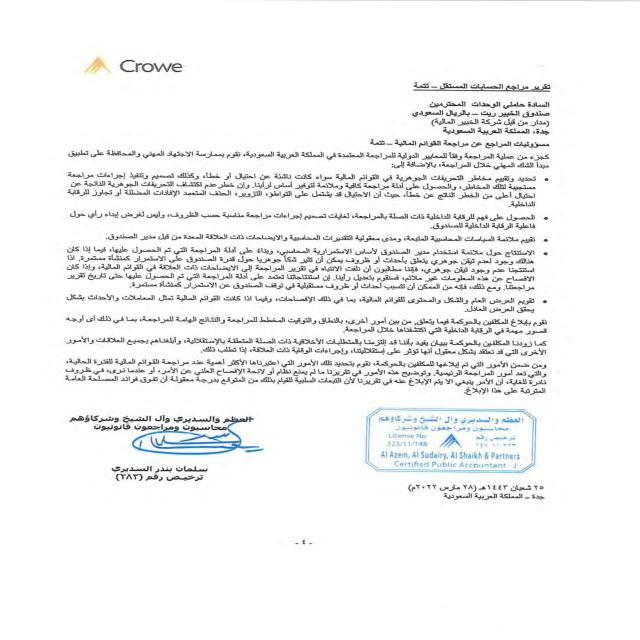auditor_report: (378, 73, 580, 97)
